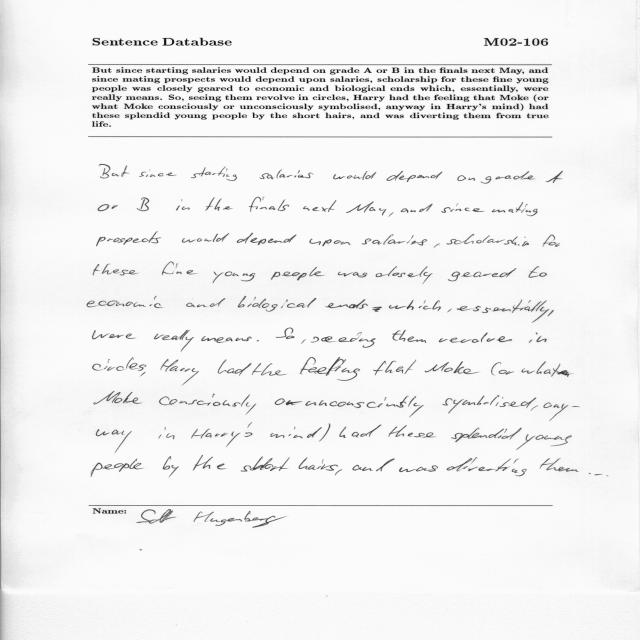word: (305, 396, 424, 417), (457, 300, 549, 323), (159, 394, 256, 415), (443, 395, 537, 413), (447, 457, 527, 476), (192, 423, 253, 447), (300, 357, 360, 381), (238, 296, 316, 312), (311, 332, 376, 348), (376, 266, 433, 284), (160, 359, 199, 385), (446, 234, 529, 246), (451, 428, 522, 442), (91, 459, 144, 477), (87, 296, 163, 308), (97, 232, 162, 246), (448, 268, 517, 281), (516, 434, 572, 450), (154, 330, 194, 352), (96, 429, 132, 453), (439, 332, 512, 343), (522, 361, 572, 377), (362, 234, 427, 246), (93, 357, 146, 371), (325, 299, 382, 312), (241, 457, 290, 472), (237, 233, 297, 245), (543, 402, 580, 421), (481, 171, 535, 184), (425, 361, 479, 374), (191, 166, 237, 181), (271, 267, 324, 280), (373, 360, 416, 375), (492, 202, 537, 216), (94, 392, 142, 405), (387, 171, 443, 182), (389, 425, 436, 438), (249, 197, 289, 212), (346, 201, 386, 216), (218, 359, 252, 376), (389, 300, 441, 311), (270, 427, 322, 438), (352, 459, 395, 472), (259, 170, 314, 180), (340, 425, 382, 438), (540, 458, 579, 472), (298, 458, 338, 471), (93, 264, 139, 275), (193, 456, 226, 471), (182, 233, 229, 243), (213, 272, 255, 283), (99, 164, 129, 179), (162, 262, 196, 275), (393, 330, 427, 343), (252, 363, 286, 376), (441, 203, 484, 213), (303, 201, 336, 213), (92, 330, 136, 339), (333, 171, 376, 180), (206, 197, 233, 211), (201, 336, 252, 343), (187, 298, 226, 307), (163, 456, 179, 477), (309, 239, 351, 246), (401, 204, 433, 213), (399, 466, 438, 472), (543, 234, 560, 247), (529, 266, 547, 278), (319, 424, 331, 442), (276, 328, 295, 339), (546, 171, 563, 183), (159, 427, 175, 439), (139, 172, 177, 177), (275, 399, 302, 406), (529, 333, 547, 343), (176, 199, 190, 211), (137, 198, 149, 211), (338, 272, 367, 277), (98, 204, 118, 211), (491, 362, 501, 375), (457, 175, 476, 181), (499, 370, 514, 374), (589, 473, 608, 476), (531, 405, 538, 411), (335, 470, 342, 476), (548, 310, 554, 316), (389, 212, 394, 217), (301, 339, 306, 344), (140, 372, 146, 376), (434, 244, 439, 248), (448, 309, 452, 313), (257, 340, 259, 342)
